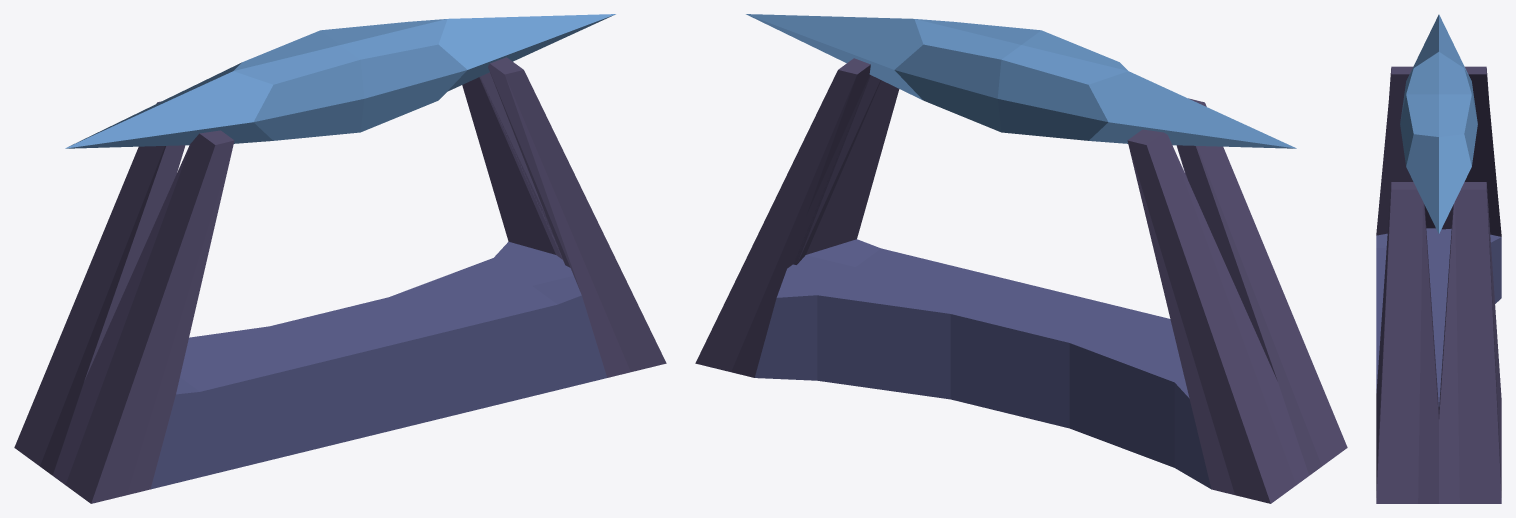
File: shop1.glb
The picture shows the model from 3 angles, left to right: view 1: azimuth 30°, elevation 25°; view 2: azimuth 150°, elevation 25°; view 3: azimuth 270°, elevation 25°; orthographic projection. The views are drawn at different scales.
Visible parts, largest first — view 1: Cube; view 2: Cube; view 3: Cube.
Boxes of the visible parts, x1,y1,x2,y2 form: Cube: (14, 14, 666, 503); Cube: (695, 14, 1347, 503); Cube: (1376, 14, 1501, 503).
Size of the model in its own units: 8.65 by 5.18 by 2.
Materials: 1 (1 with a texture image).
